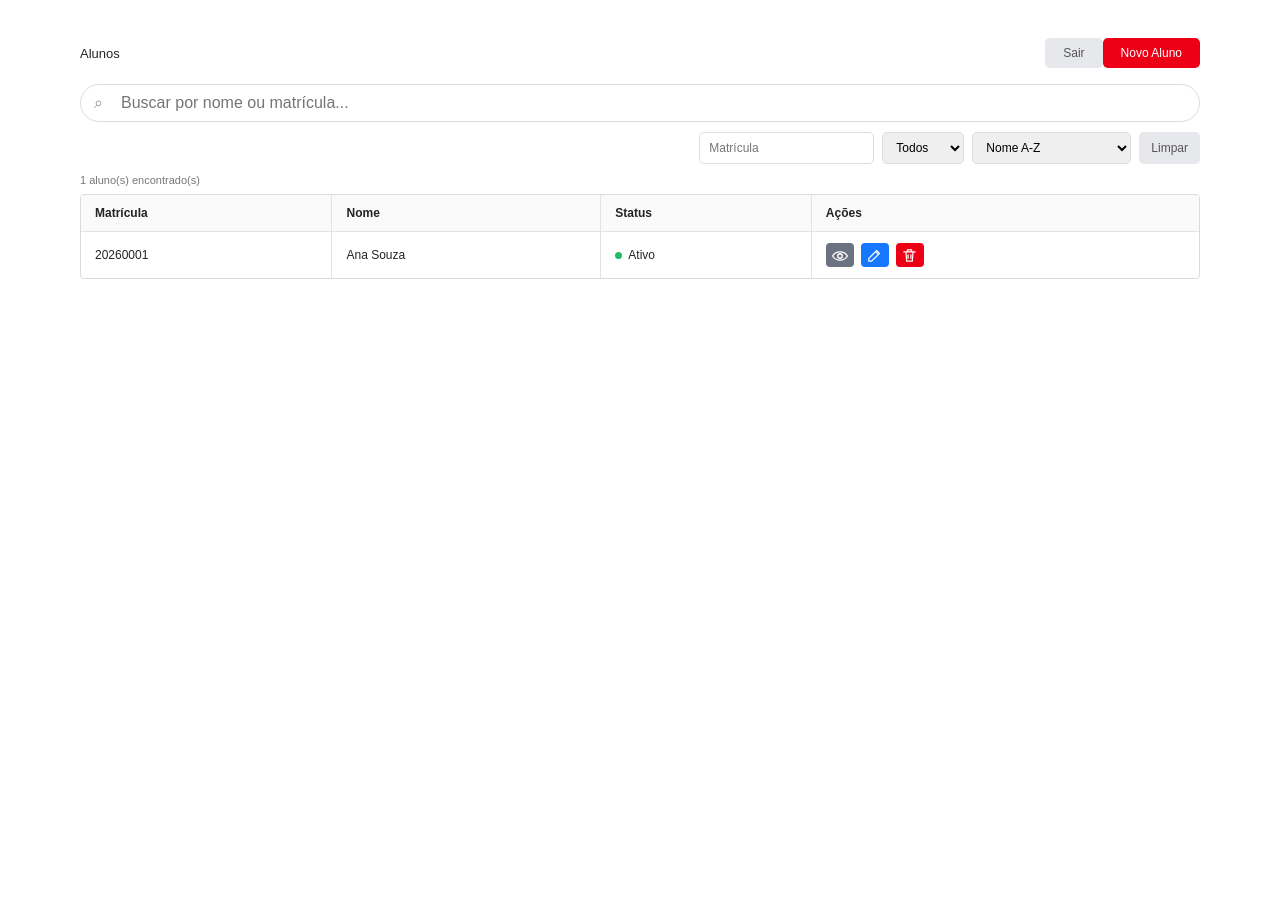
ListaAlunosComponent › só exclui o aluno após a confirmação no modal
Click the button with class "excluir": (910, 255) top-left (896, 243), bottom-right (924, 267)
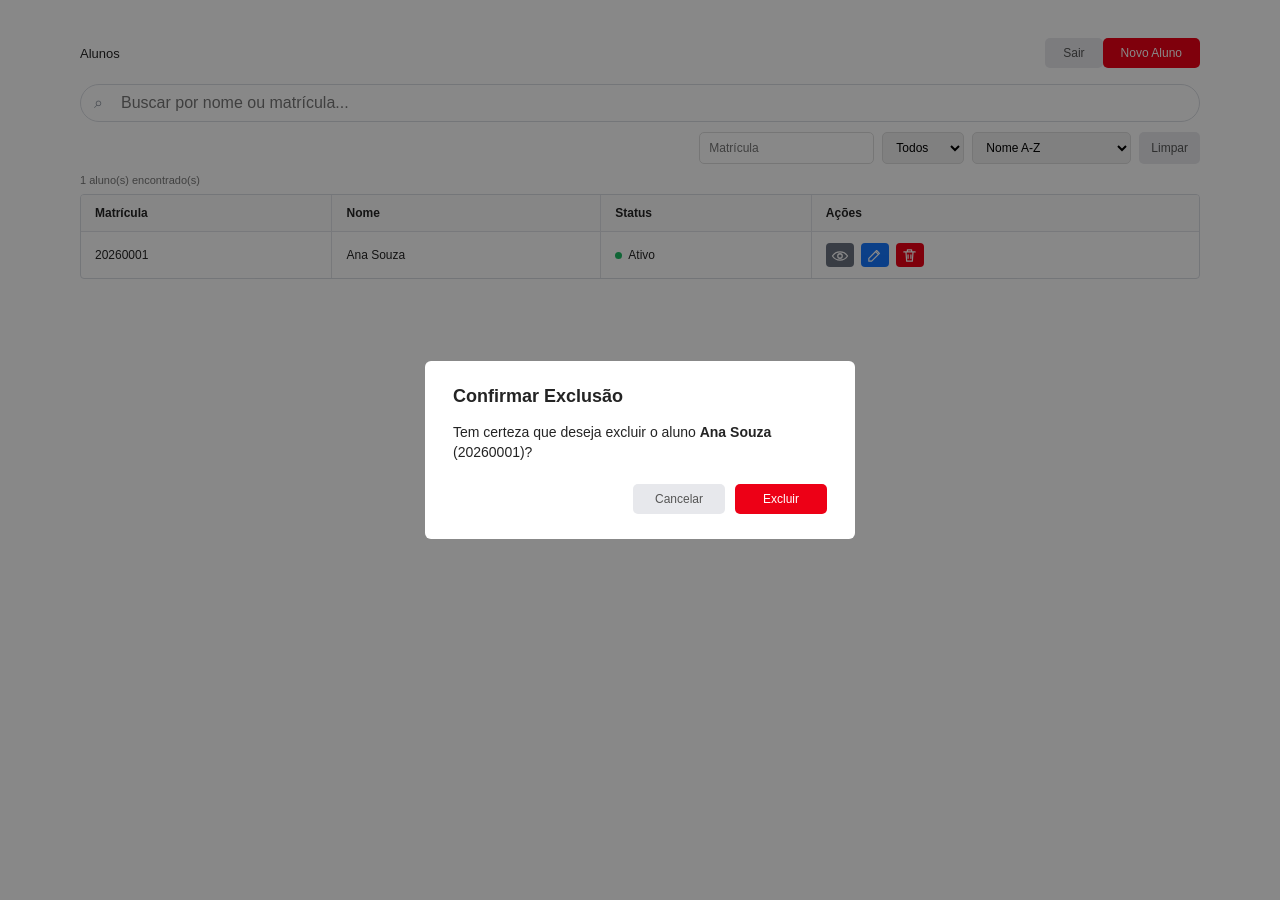
Click the button "Excluir": (781, 499) top-left (735, 484), bottom-right (827, 514)
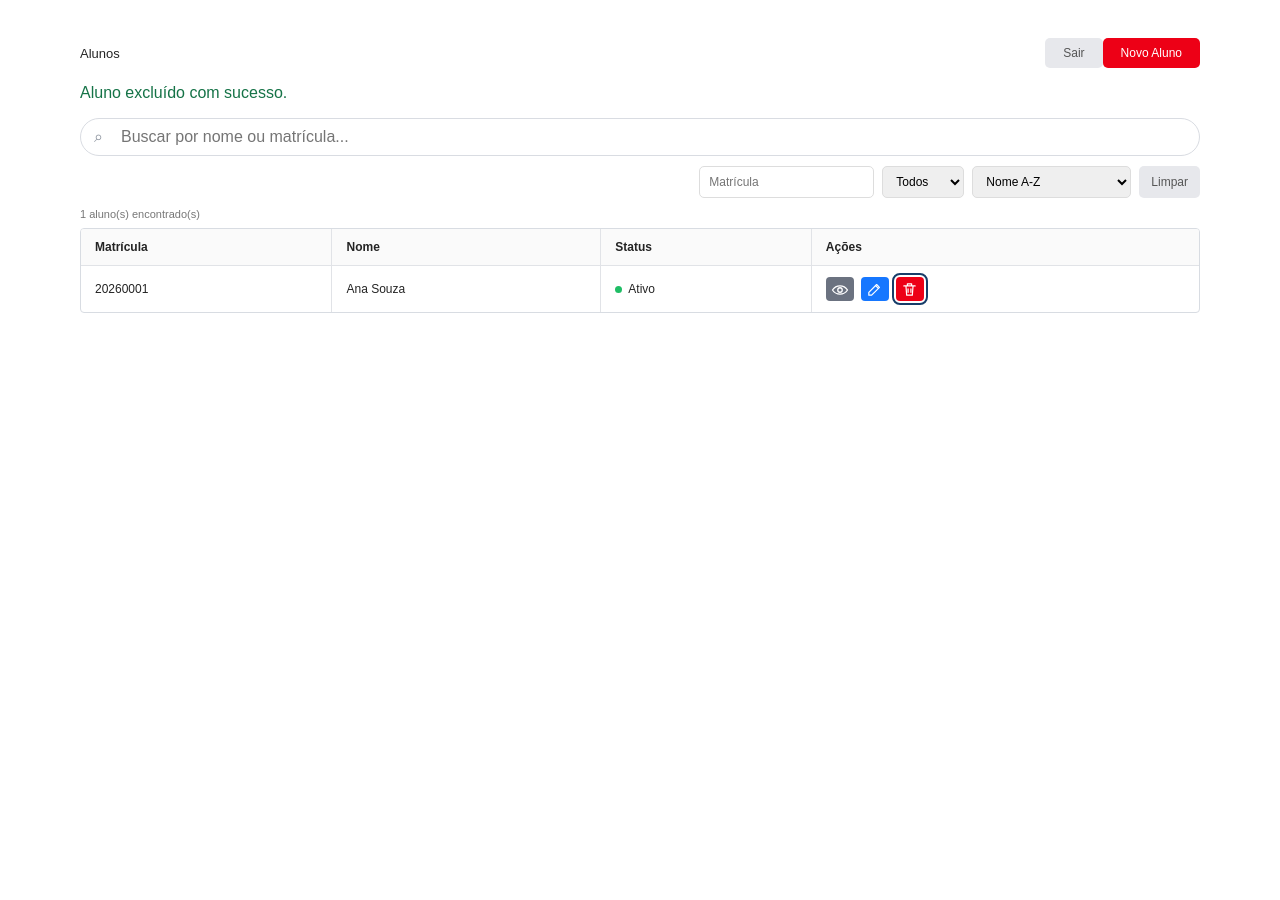
Expected: the text "Aluno excluído com sucesso." is shown, top-left (80, 84), bottom-right (287, 101)
